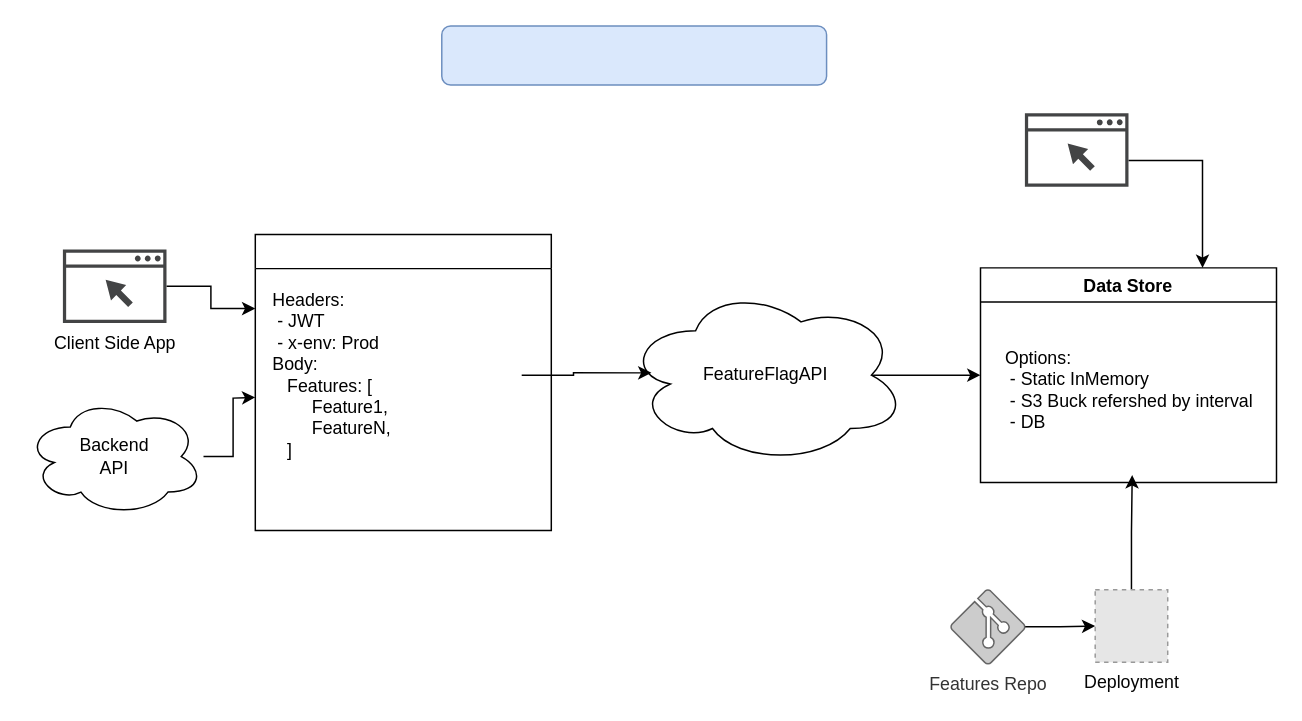
Some shapes in this 1302 by 721 pixel diagram are drawn without their labels. Grey dashed boxes stand in for pictures. Each missing label, with the box of its shape:
Feature UI Editor (Optional): (1024, 112, 1128, 186)
FeatureFlagApi - Concept: (440, 24, 827, 85)
POST - api/features/evaluate: (254, 233, 551, 531)
